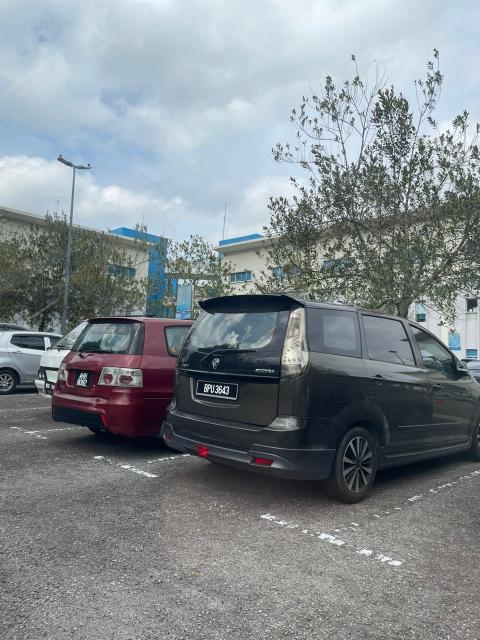License_Plate: (195, 379, 239, 405), (69, 367, 97, 394)
car: (161, 295, 480, 499), (51, 310, 246, 445)
